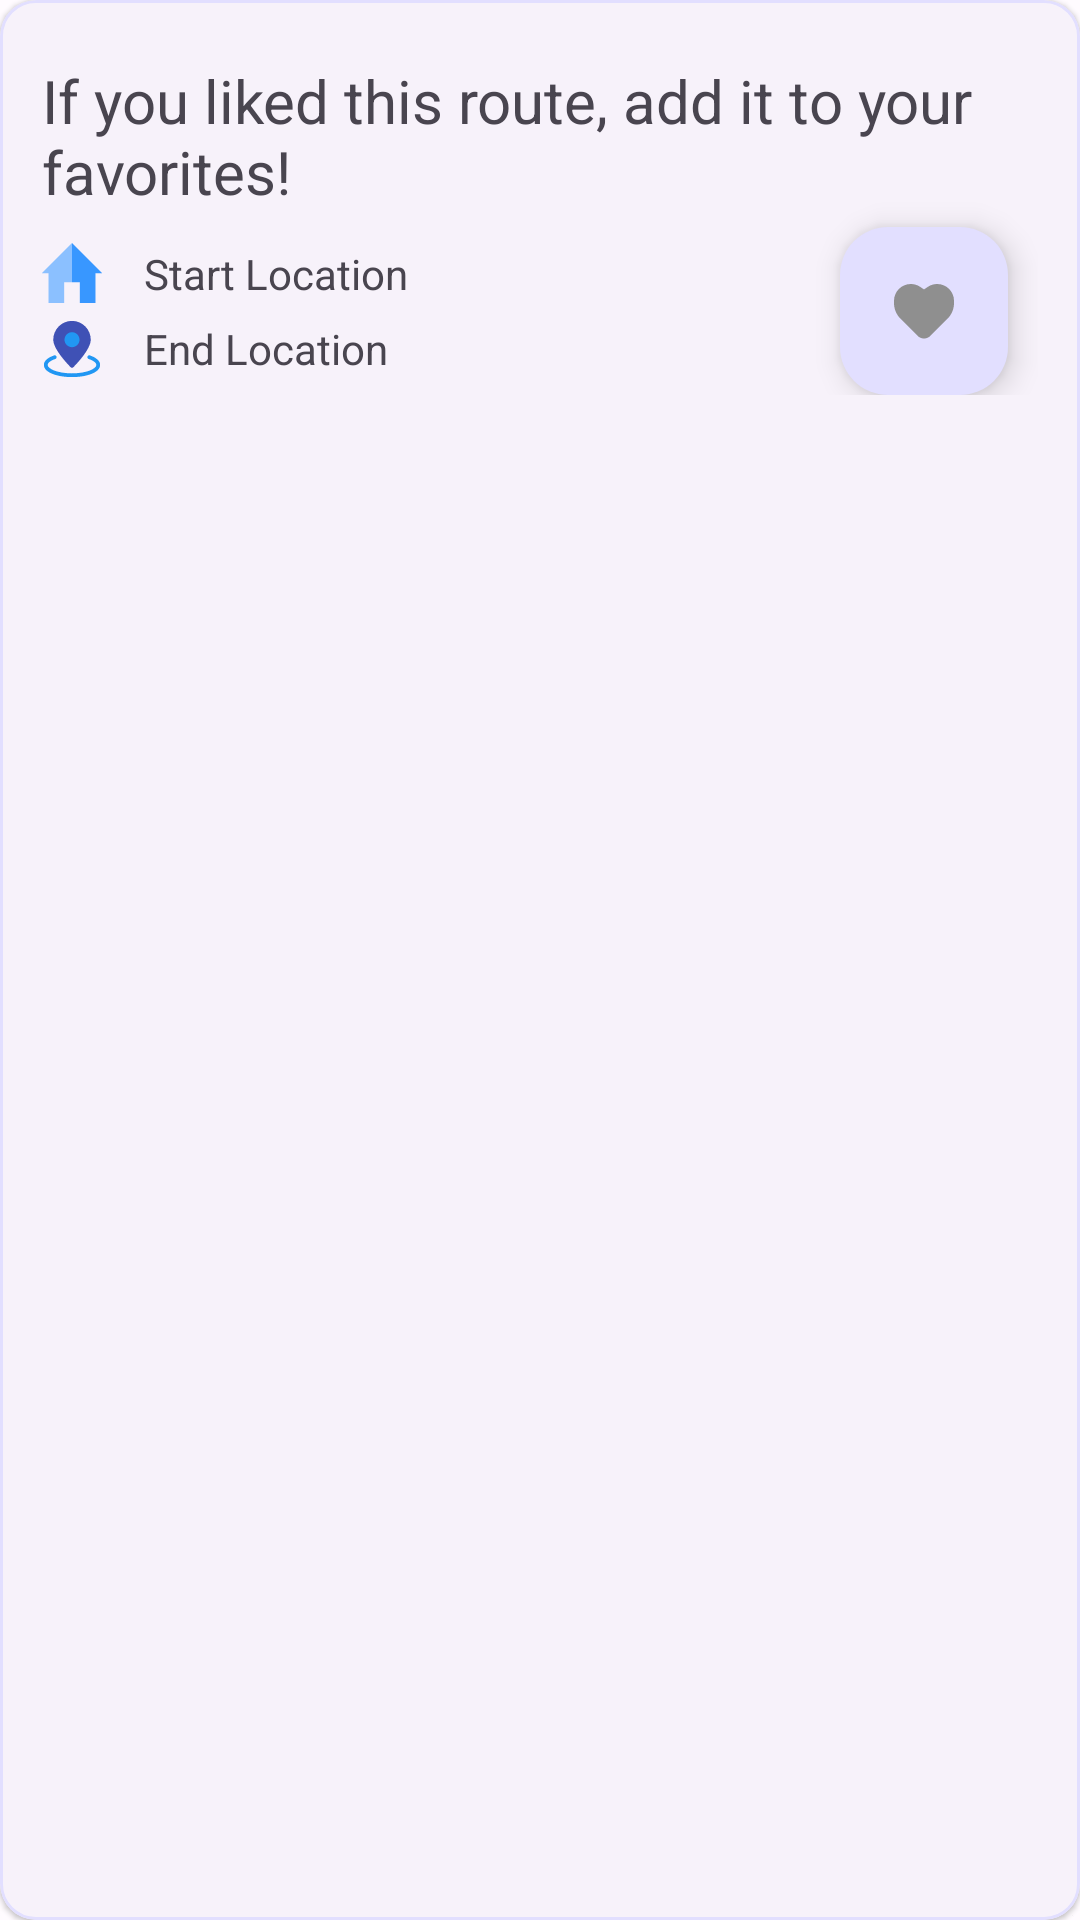

Icons on this 1080px×1920px Android screen, each with its box as [left=x1, top=y1, right=x2, bottom=y2]:
Add to favourite button: [left=840, top=227, right=1008, bottom=395]
fav card destination point: [left=44, top=321, right=100, bottom=377]
fav card starting point: [left=42, top=243, right=102, bottom=303]
